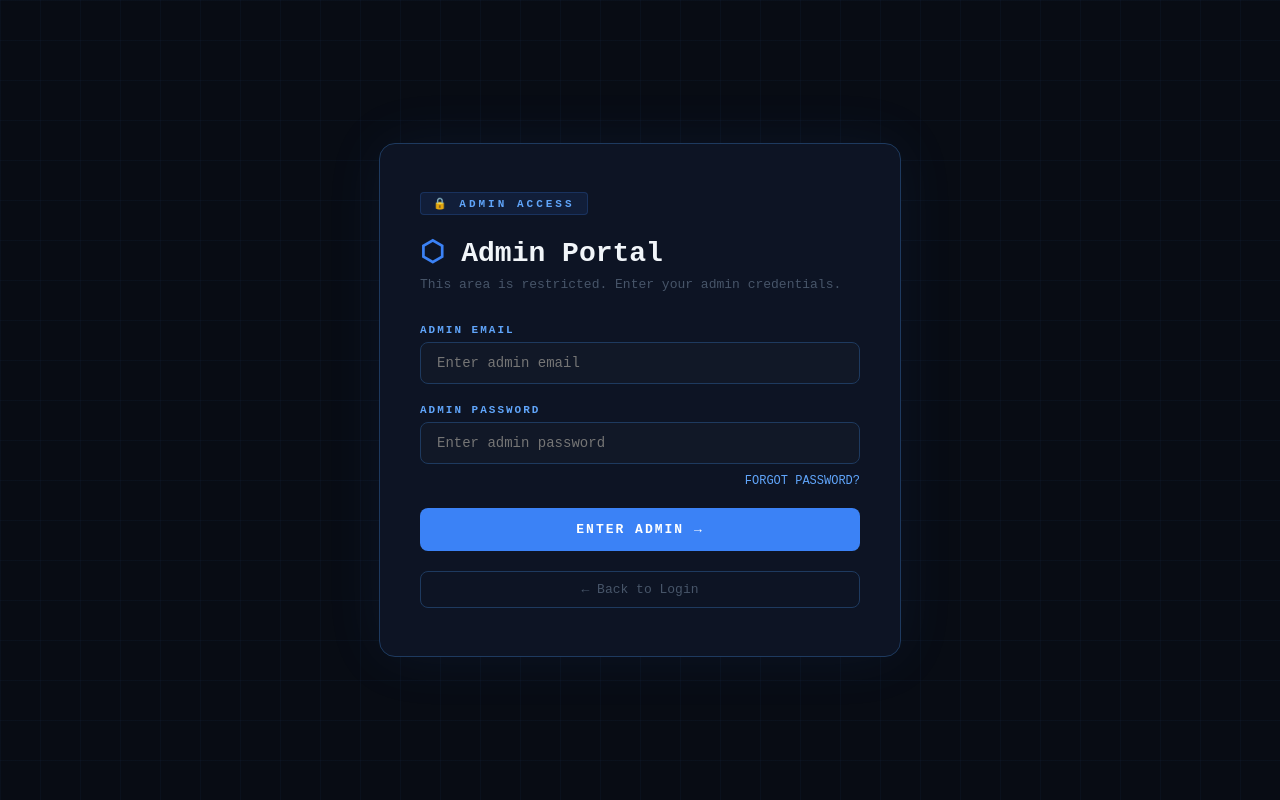
it: AdminLoginScreen Component › shows error message on failed login
Step 1. Type "admin@example.com" into the field with placeholder "Enter admin email" → (640, 363), box [420,342,860,384]
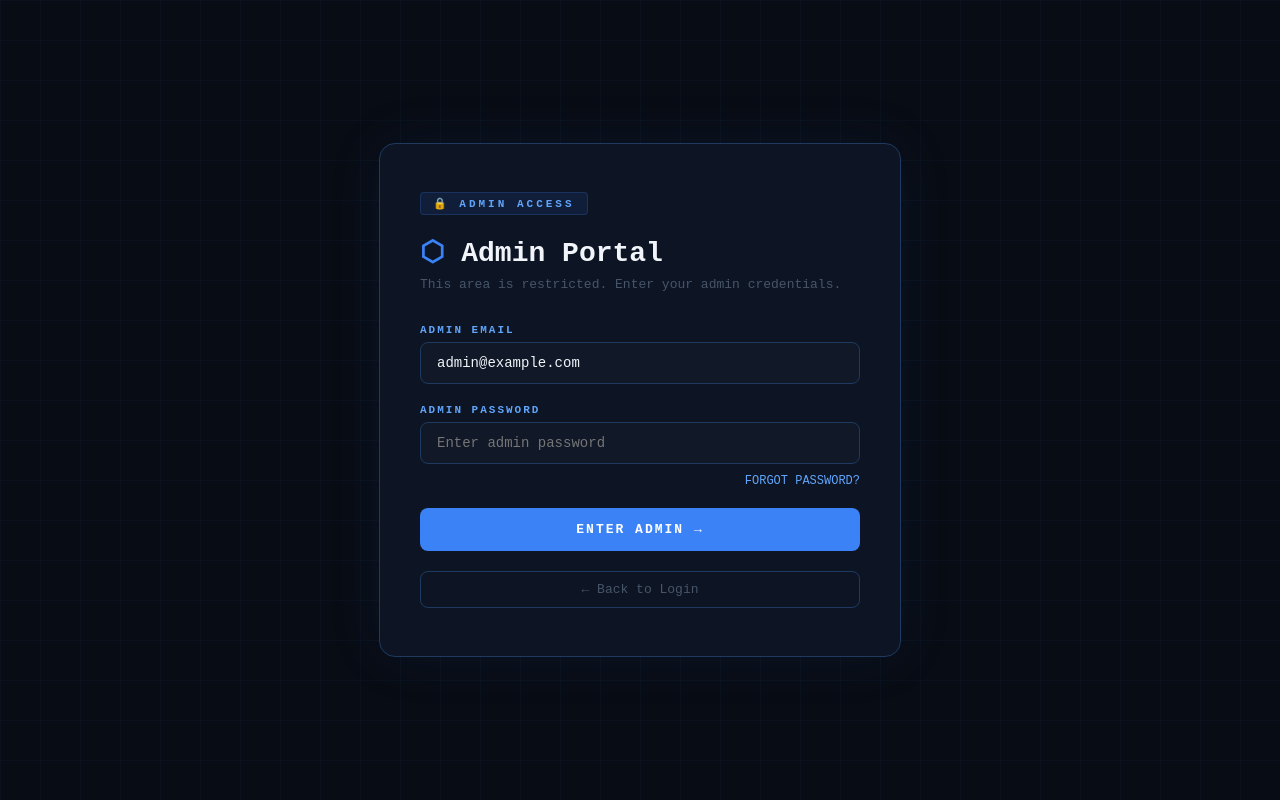
Step 2. Type "wrongpass" into the password field with placeholder "Enter admin password" → (640, 443), box [420,422,860,464]
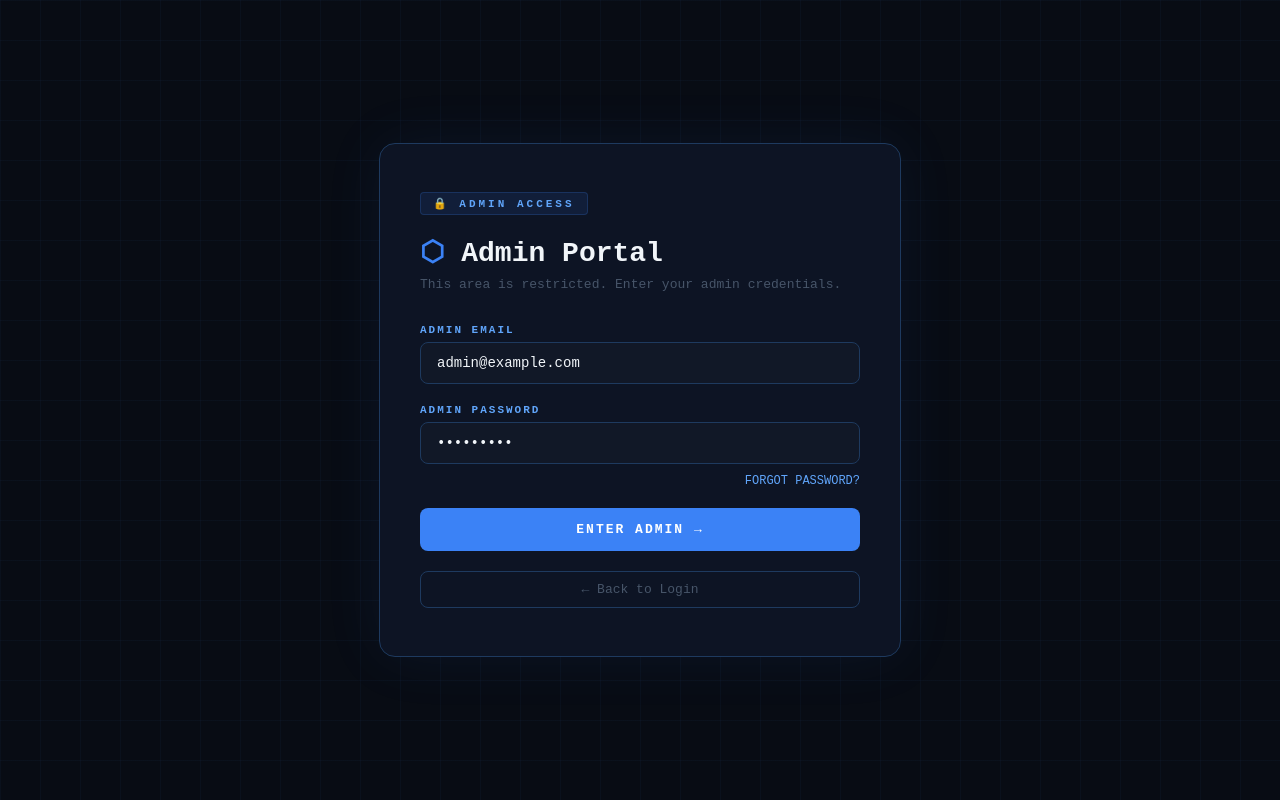
Step 3. Click the button "ENTER ADMIN →" → (640, 530), box [420,508,860,551]
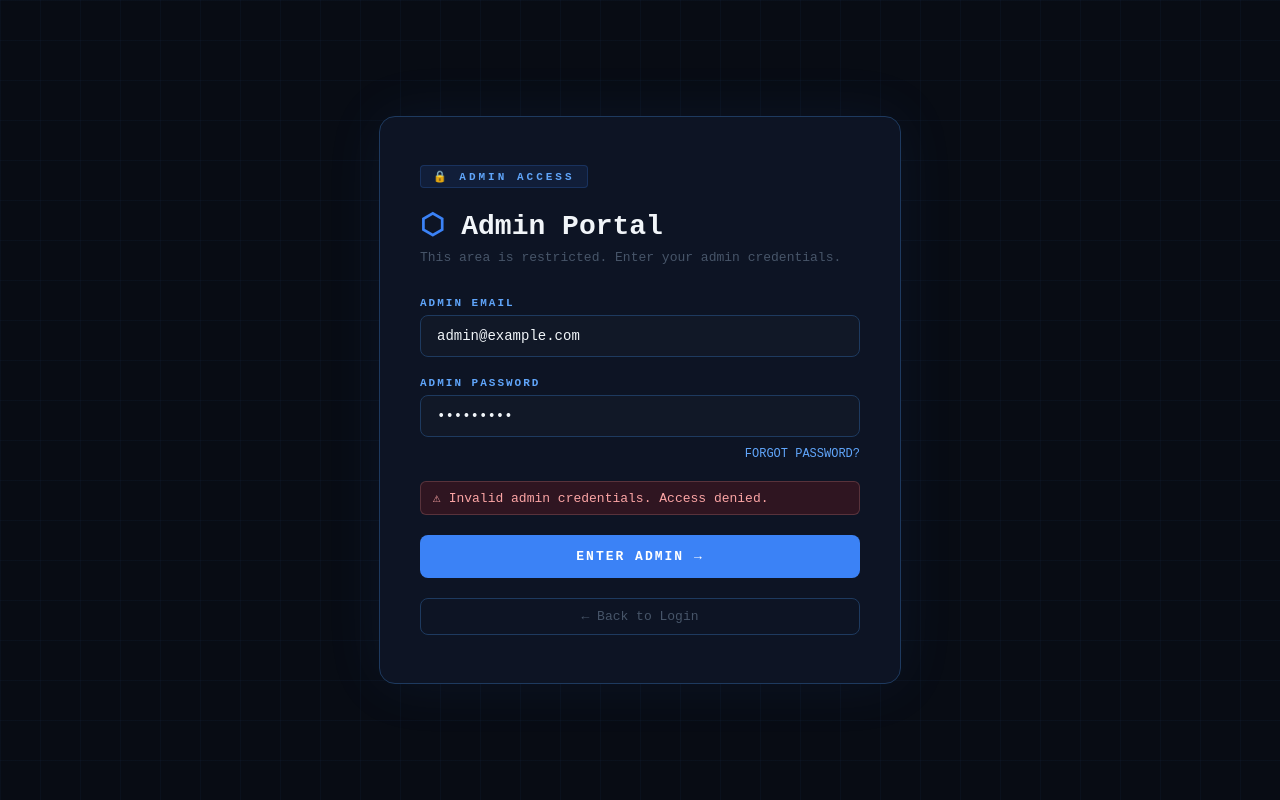
Expected: the text "⚠ Invalid admin credentials. Access denied." is shown, [420,481,860,515]
